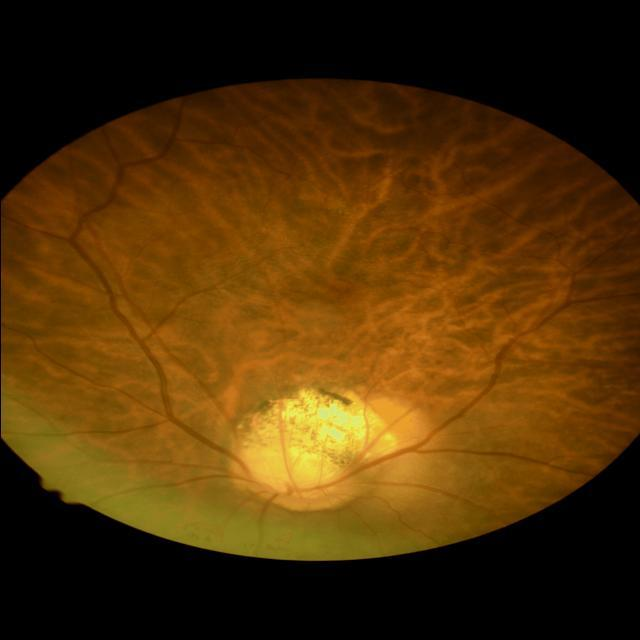cup: (242, 450, 338, 499)
disk: (228, 447, 358, 512)
